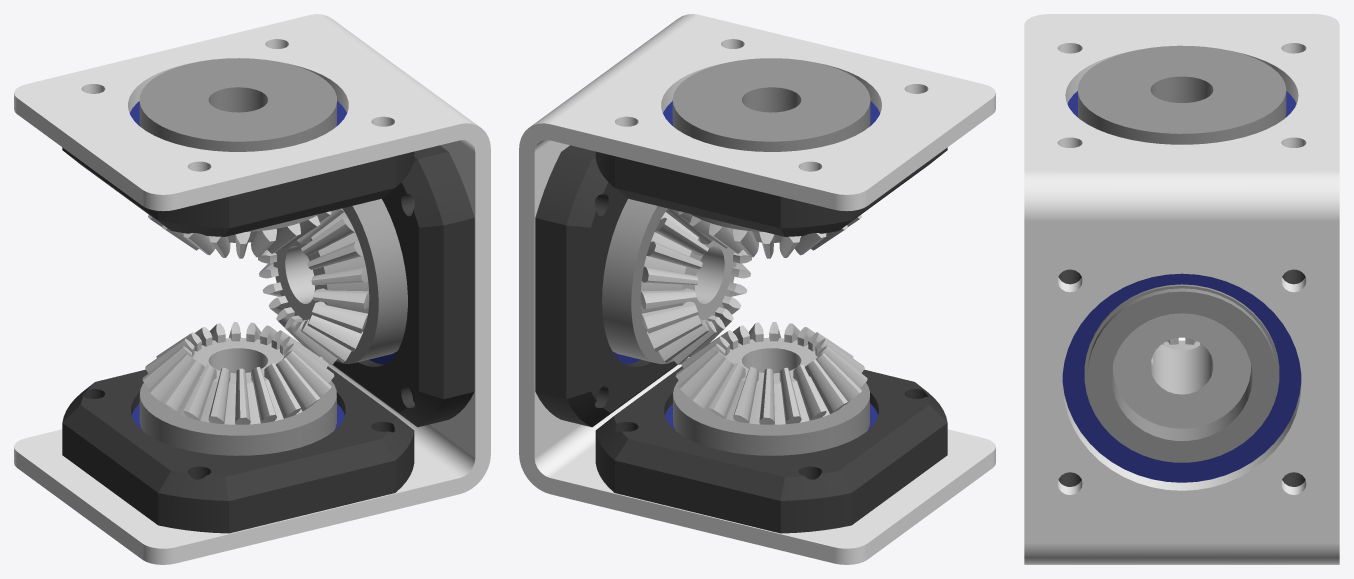
File: axis5_1.obj
3 views of the same model, side by side, from view 1: azimuth 30°, elevation 25°; view 2: azimuth 150°, elevation 25°; view 3: azimuth 270°, elevation 25° (orthographic). The views are drawn at different scales.
Parts seen in each view (by area): view 1: Body3, Body4, Body13, Body8, Body12, Body7, Body14, Body10, Body5, Body11; view 2: Body3, Body4, Body13, Body8, Body12, Body7, Body14, Body10, Body5, Body11; view 3: Body3, Body8, Body5, Body15, Body7, Body13.
Boxes of the visible parts, x1=… form: Body3: x1=14, y1=14, x2=490, y2=564; Body4: x1=62, y1=366, x2=414, y2=533; Body13: x1=332, y1=145, x2=474, y2=427; Body8: x1=139, y1=58, x2=336, y2=151; Body12: x1=142, y1=322, x2=334, y2=424; Body7: x1=258, y1=208, x2=369, y2=364; Body14: x1=62, y1=147, x2=414, y2=236; Body10: x1=139, y1=380, x2=336, y2=455; Body5: x1=336, y1=199, x2=407, y2=364; Body11: x1=148, y1=211, x2=331, y2=258; Body3: x1=519, y1=14, x2=995, y2=564; Body4: x1=595, y1=366, x2=947, y2=533; Body13: x1=535, y1=145, x2=677, y2=427; Body8: x1=672, y1=58, x2=870, y2=151; Body12: x1=675, y1=322, x2=867, y2=424; Body7: x1=640, y1=208, x2=751, y2=364; Body14: x1=595, y1=147, x2=947, y2=236; Body10: x1=673, y1=380, x2=869, y2=455; Body5: x1=602, y1=198, x2=673, y2=364; Body11: x1=678, y1=211, x2=861, y2=258; Body3: x1=1024, y1=14, x2=1339, y2=564; Body8: x1=1078, y1=45, x2=1286, y2=144; Body5: x1=1087, y1=288, x2=1276, y2=462; Body15: x1=1062, y1=273, x2=1301, y2=482; Body7: x1=1112, y1=313, x2=1250, y2=428; Body13: x1=1058, y1=269, x2=1305, y2=486.
Bounding box in the file's own units: 65 × 70.34 × 50.
